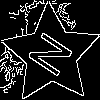N: (26, 29, 82, 85)
